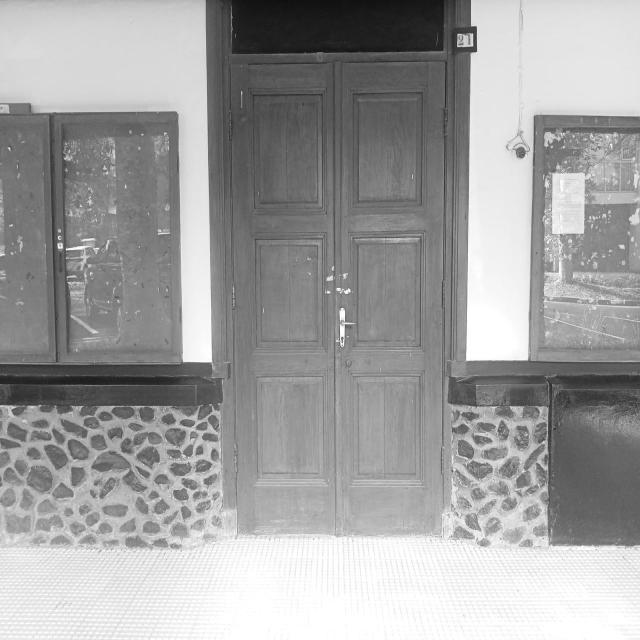door: (222, 52, 455, 536)
